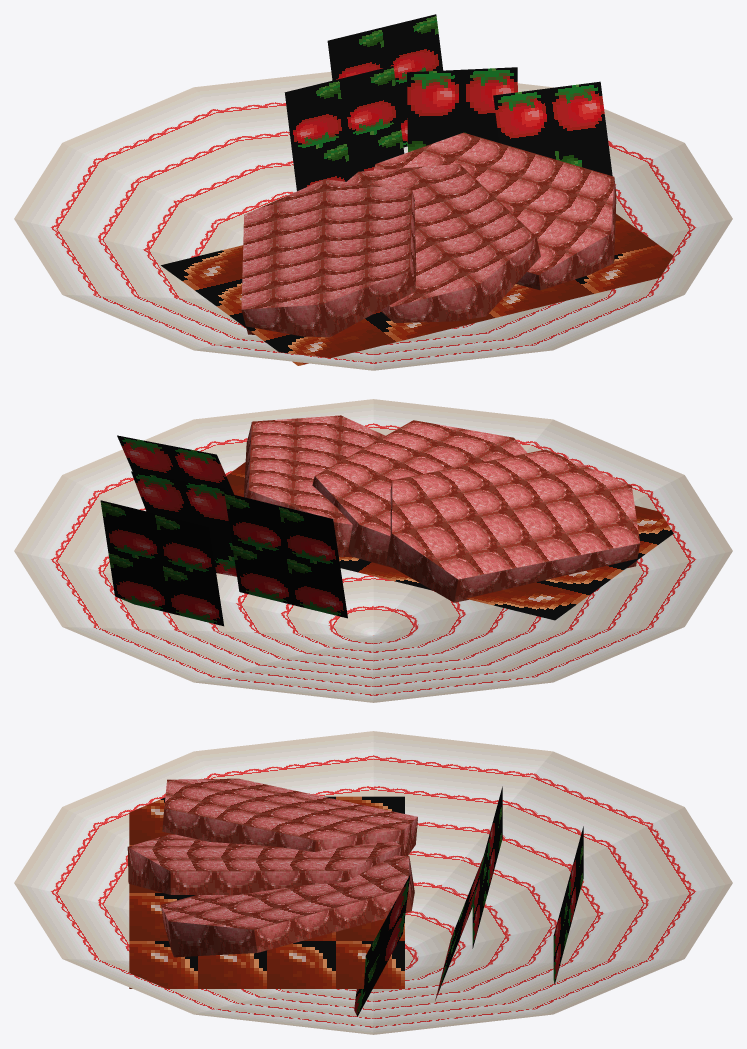
The model's file is roastbeef.gltf.
3 renders of one model, top to bottom at view 1: azimuth 30°, elevation 25°; view 2: azimuth 150°, elevation 25°; view 3: azimuth 270°, elevation 25°, orthographic.
Visible parts, largest first — view 1: roastbeef; view 2: roastbeef; view 3: roastbeef.
Part boxes in pixels (box(x1,y1,x2,y2)): roastbeef: box(14, 14, 732, 370); roastbeef: box(14, 399, 732, 702); roastbeef: box(14, 731, 732, 1034).
Bounding box in the file's own units: 0.9043 × 0.238 × 0.9043.
Materials: 4 (4 with a texture image).
